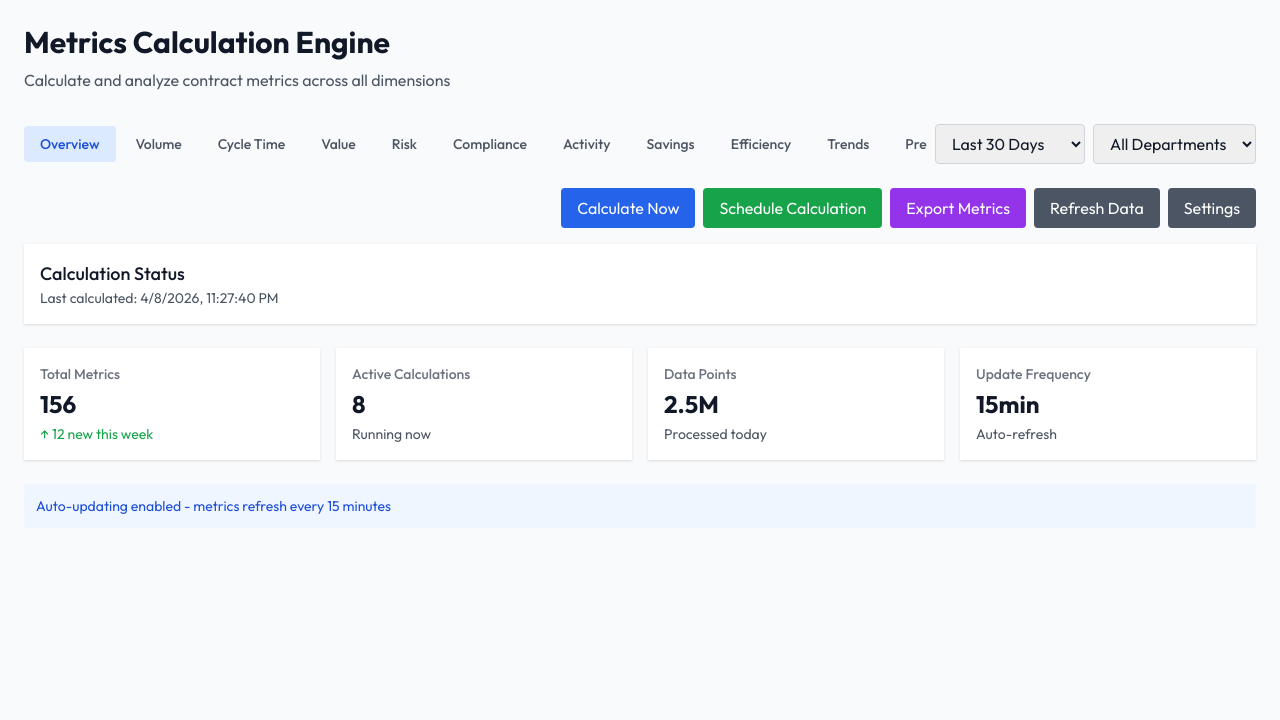
Test case: MetricsCalculationEngine › Cycle Time Calculations › should display bottleneck analysis
Click the tab "Cycle Time" at point(252, 144), box [202,126,301,162]
(page scrolled)
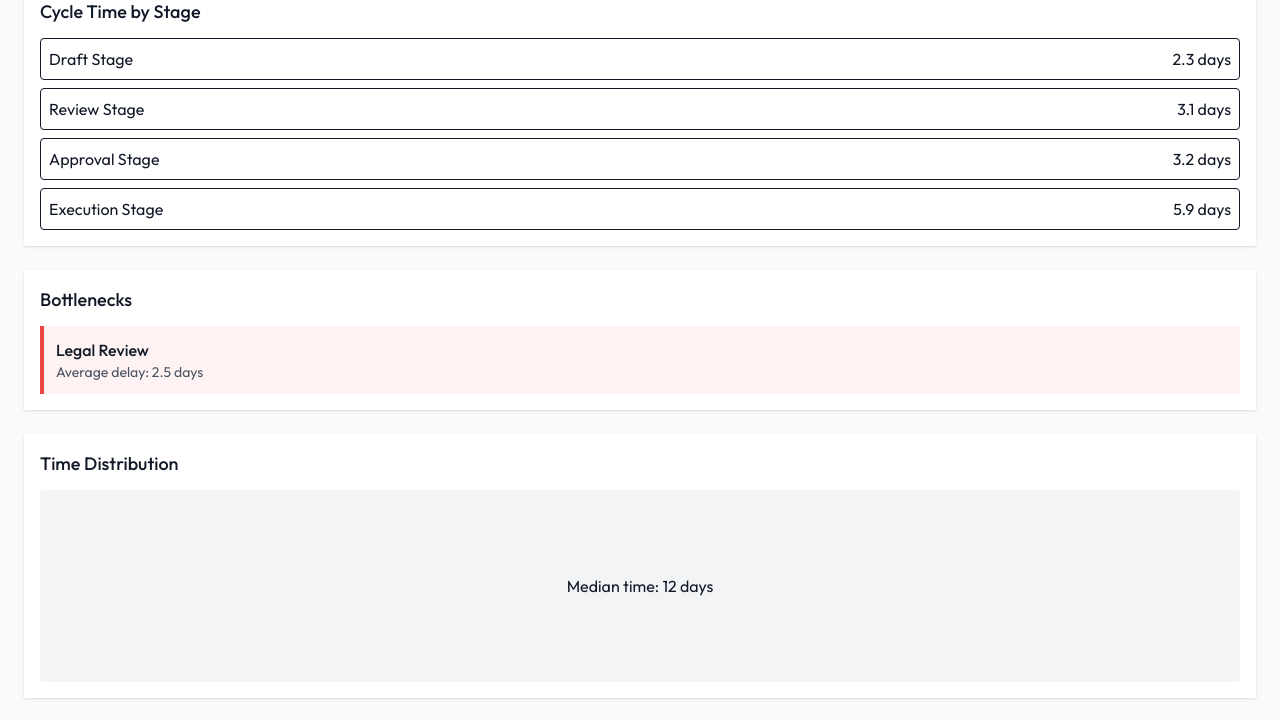
Result: the heading "Bottlenecks" is shown at [40,288,132,311]
Result: the element with test id "bottleneck-analysis" is shown at [40,326,1240,394]
